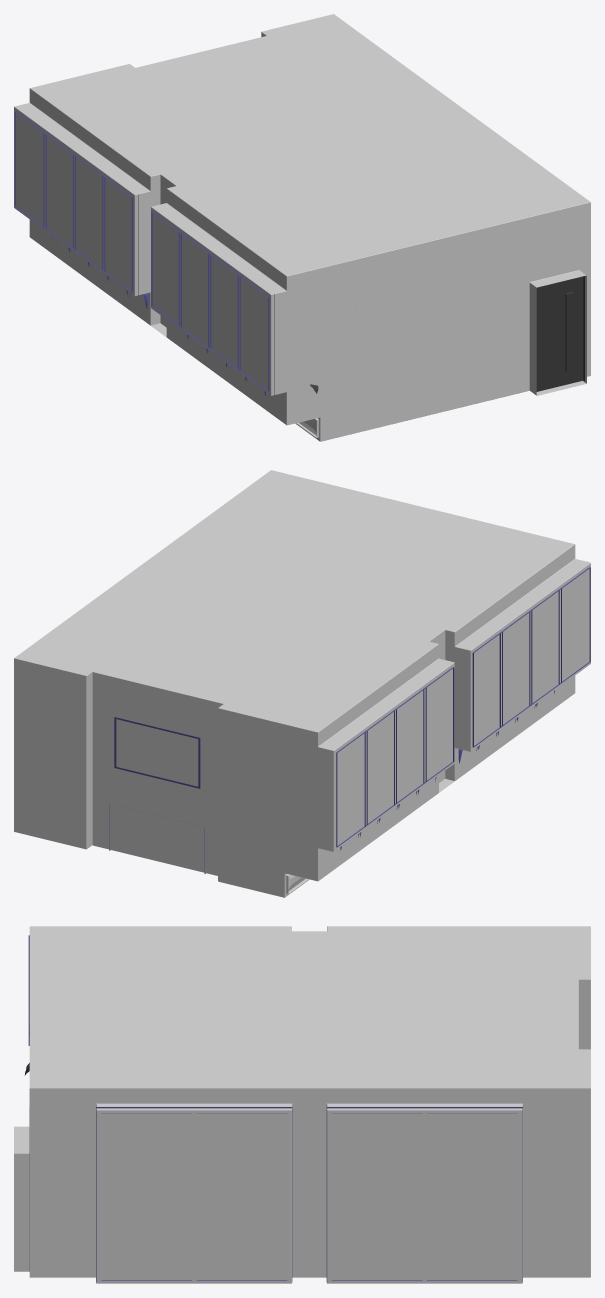
The model's file is conferenceRoom.fbx.
3 views of the same model, one above another, from view 1: azimuth 30°, elevation 25°; view 2: azimuth 150°, elevation 25°; view 3: azimuth 270°, elevation 25° (orthographic). The views are drawn at different scales.
Parts seen in each view (by area): view 1: walls, walls.001, window, window2; view 2: walls, window, window2, TV; view 3: walls, window2.
Boxes of the visible parts, x1,y1,x2,y2 form: walls: (14, 14, 590, 441); walls.001: (536, 276, 584, 391); window: (43, 133, 240, 370); window2: (15, 112, 274, 394); walls: (14, 470, 590, 897); window: (364, 589, 561, 826); window2: (336, 567, 590, 847); TV: (114, 717, 200, 788); walls: (14, 926, 590, 1283); window2: (28, 935, 522, 1281).
Size of the model in its own units: 700 by 351 by 960.
